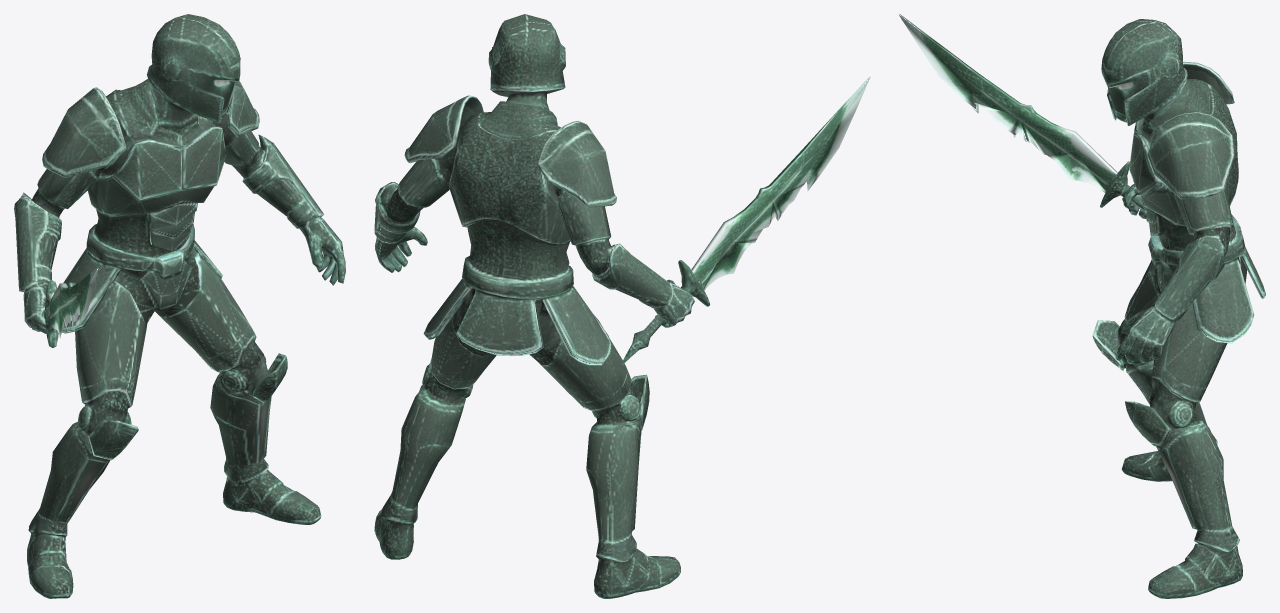
File: glowing+knight+3d+model.glb
The picture shows the model from 3 angles, left to right: view 1: azimuth 30°, elevation 25°; view 2: azimuth 150°, elevation 25°; view 3: azimuth 270°, elevation 25°; orthographic projection. The views are drawn at different scales.
Visible parts, largest first — view 1: tripo_node_a02d424a-60ba-4ca9-80ce-e5992752135c; view 2: tripo_node_a02d424a-60ba-4ca9-80ce-e5992752135c; view 3: tripo_node_a02d424a-60ba-4ca9-80ce-e5992752135c.
Part boxes in pixels (x1,y1,x2,y2): tripo_node_a02d424a-60ba-4ca9-80ce-e5992752135c: (14,14,345,598); tripo_node_a02d424a-60ba-4ca9-80ce-e5992752135c: (374,14,870,598); tripo_node_a02d424a-60ba-4ca9-80ce-e5992752135c: (899,14,1265,598).
Size of the model in its own units: 0.7231 by 0.9995 by 0.6479.
Materials: 1 (1 with a texture image).
